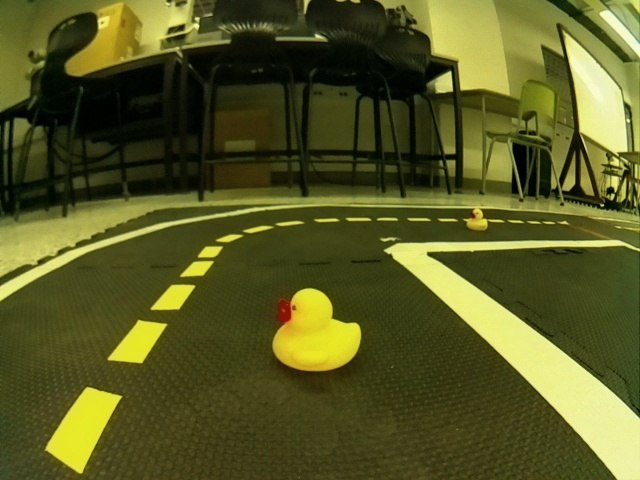pato: (271, 287, 364, 374), (464, 207, 491, 233)
